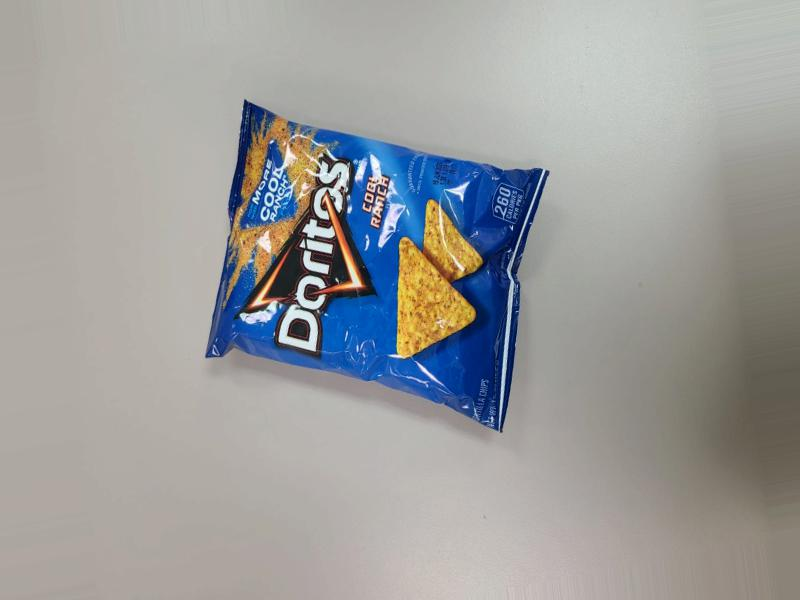doritos: (202, 102, 532, 456)
